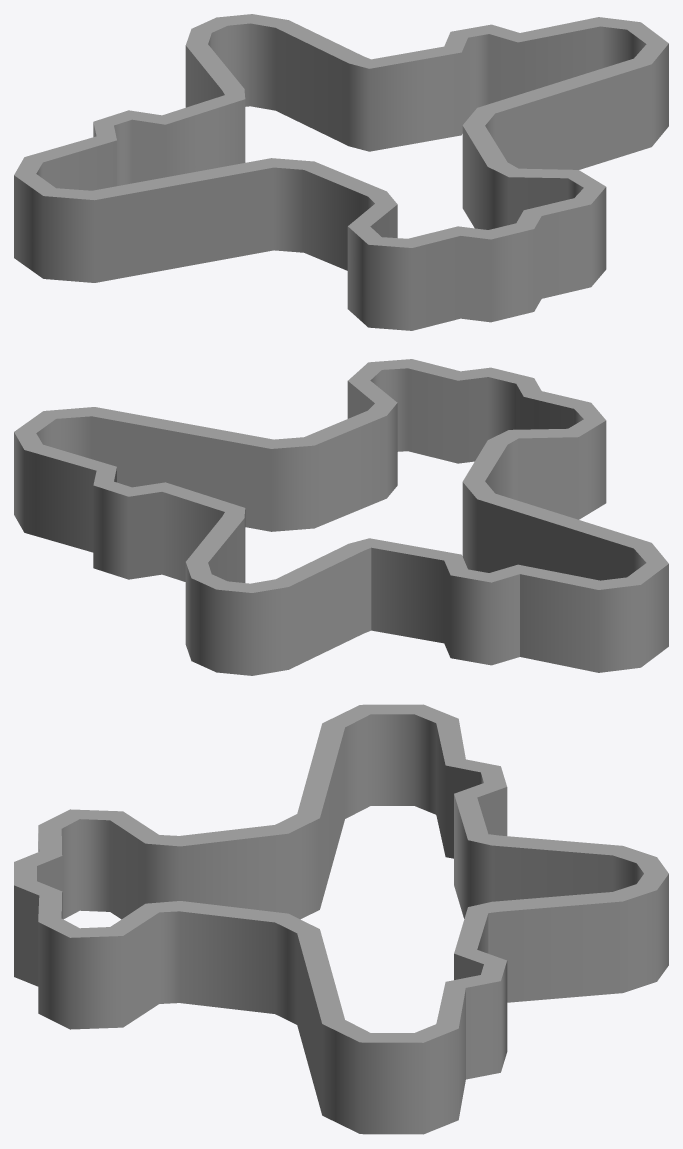
Rendered from BiscuitCutter_Plane_01.fbx.
3 renders of one model, top to bottom at view 1: azimuth 30°, elevation 25°; view 2: azimuth 150°, elevation 25°; view 3: azimuth 270°, elevation 25°, orthographic. The views are drawn at different scales.
Parts seen in each view (by area): view 1: BiscuitCutter_Plane_01; view 2: BiscuitCutter_Plane_01; view 3: BiscuitCutter_Plane_01.
Boxes of the visible parts, <box> form: BiscuitCutter_Plane_01: <box>14,14,668,330</box>; BiscuitCutter_Plane_01: <box>14,359,668,675</box>; BiscuitCutter_Plane_01: <box>14,704,668,1134</box>.
Bounding box in the file's own units: 0.101 × 0.0128 × 0.0826.
